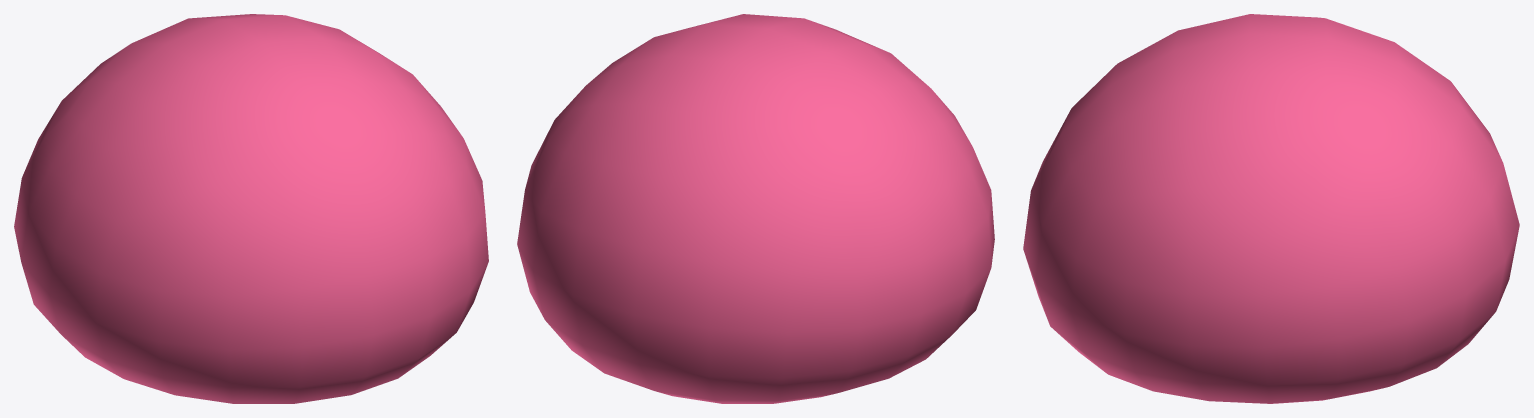
The model's file is mochi pink.FBX.
3 renders of one model, left to right at view 1: azimuth 30°, elevation 25°; view 2: azimuth 150°, elevation 25°; view 3: azimuth 270°, elevation 25°, orthographic. The views are drawn at different scales.
Visible parts, largest first — view 1: PolySphere; view 2: PolySphere; view 3: PolySphere.
Boxes of the visible parts, x1,y1,x2,y2 form: PolySphere: (14,14,488,403); PolySphere: (517,14,994,403); PolySphere: (1023,14,1519,403).
Bounding box in the file's own units: 1.96 × 1.39 × 2.01.
